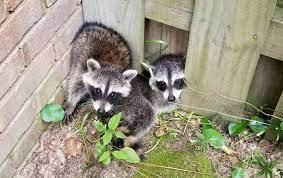raccoon: (98, 46, 198, 165), (56, 12, 144, 129)
